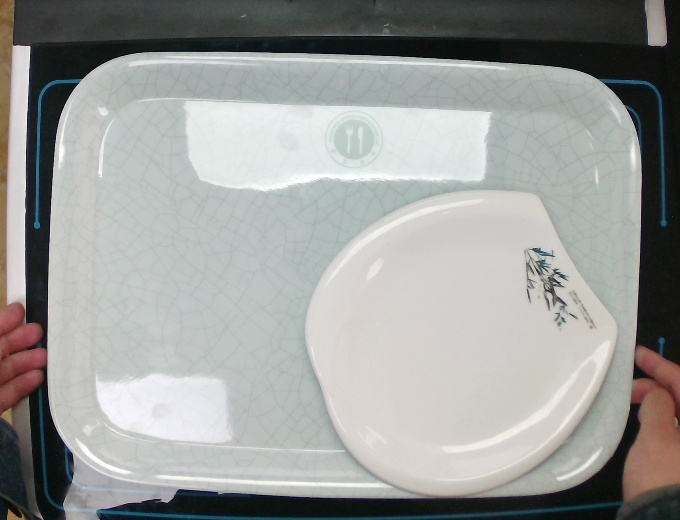JYsf-Mian_Pan: (291, 181, 624, 502)
